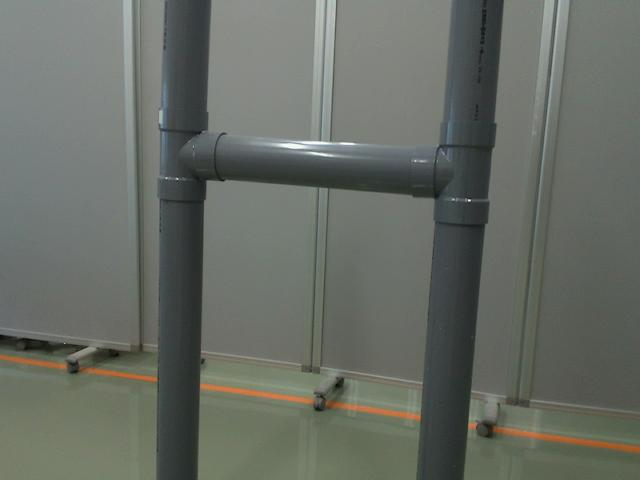junction: (413, 117, 495, 225), (149, 107, 232, 203)
